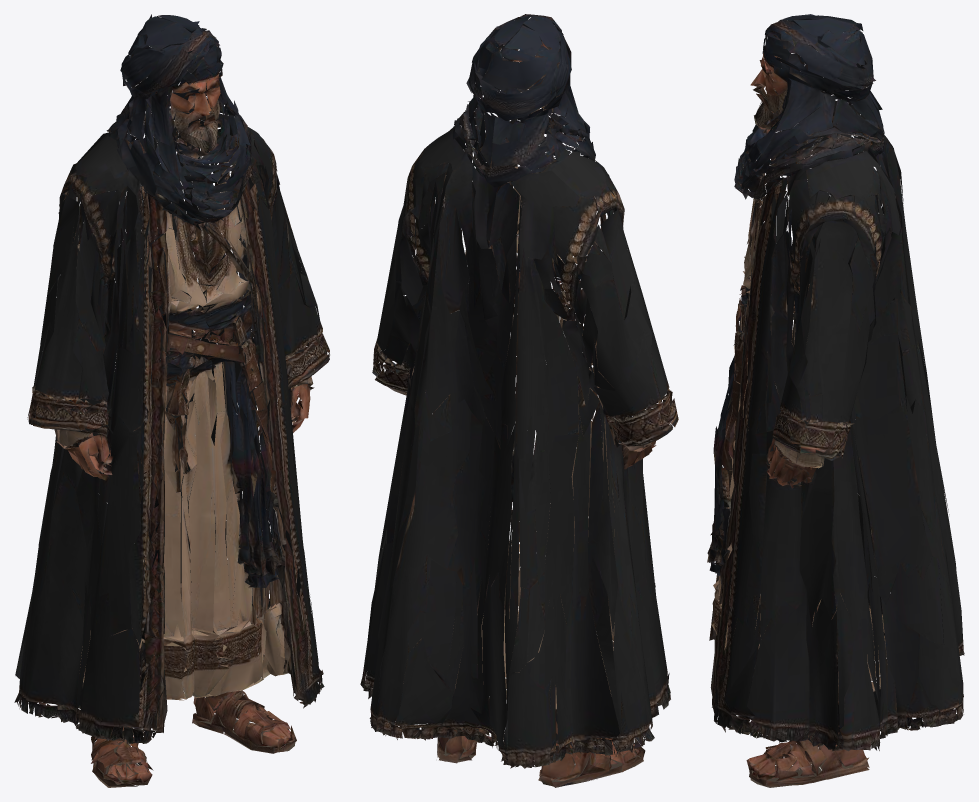
Rendered from npc-chief.glb.
The picture shows the model from 3 angles, left to right: view 1: azimuth 30°, elevation 25°; view 2: azimuth 150°, elevation 25°; view 3: azimuth 270°, elevation 25°; orthographic projection.
Visible parts, largest first — view 1: Mesh_0; view 2: Mesh_0; view 3: Mesh_0.
Part boxes in pixels (x1,y1,x2,y2): Mesh_0: (14, 14, 329, 787); Mesh_0: (360, 14, 678, 787); Mesh_0: (707, 14, 964, 787).
Bounding box in the file's own units: 0.8145 × 1.91 × 0.6142.
Materials: 1 (1 with a texture image).
